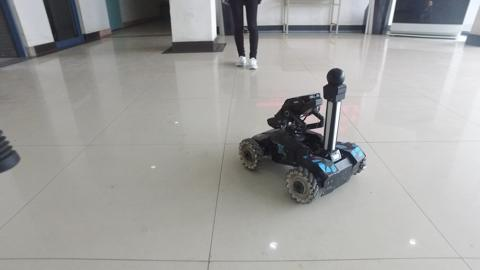chariot: (238, 66, 368, 204)
